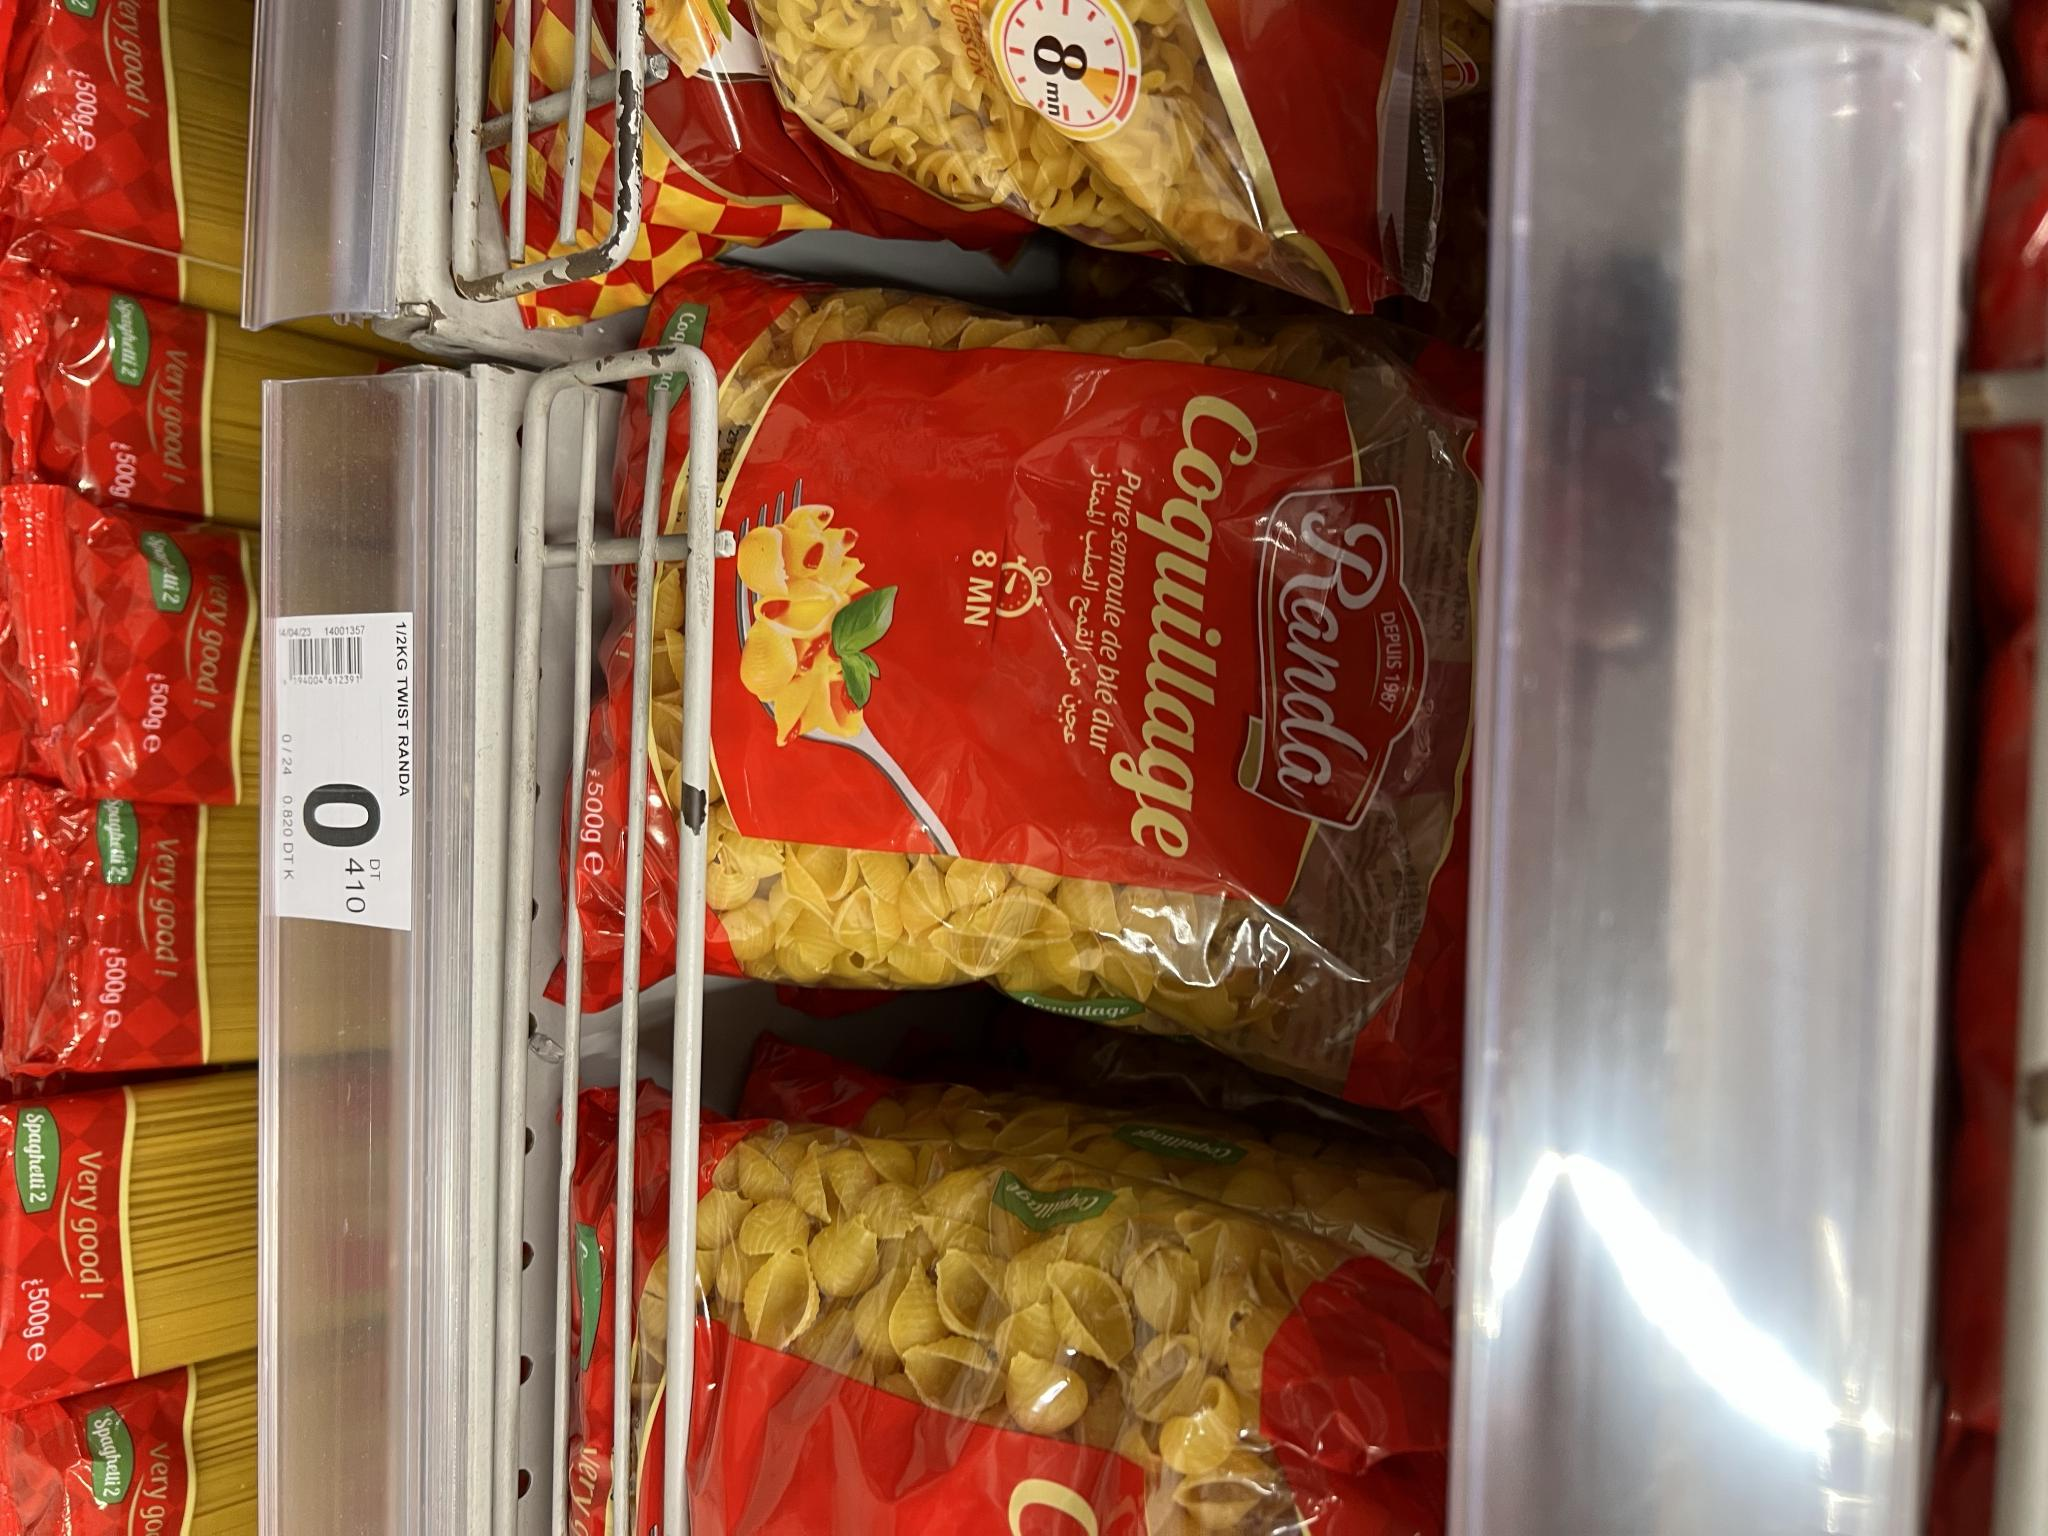Escargot: (535, 242, 1487, 1157), (539, 1097, 1463, 1536)
